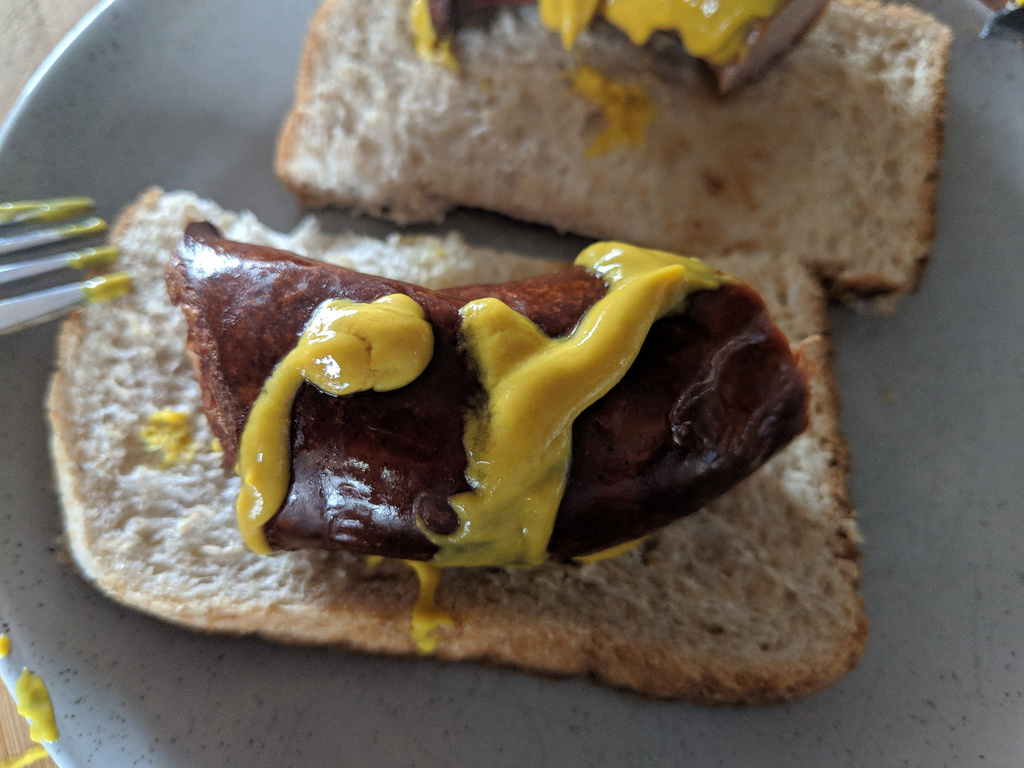slice of bread: (60, 183, 864, 708), (279, 1, 951, 299)
